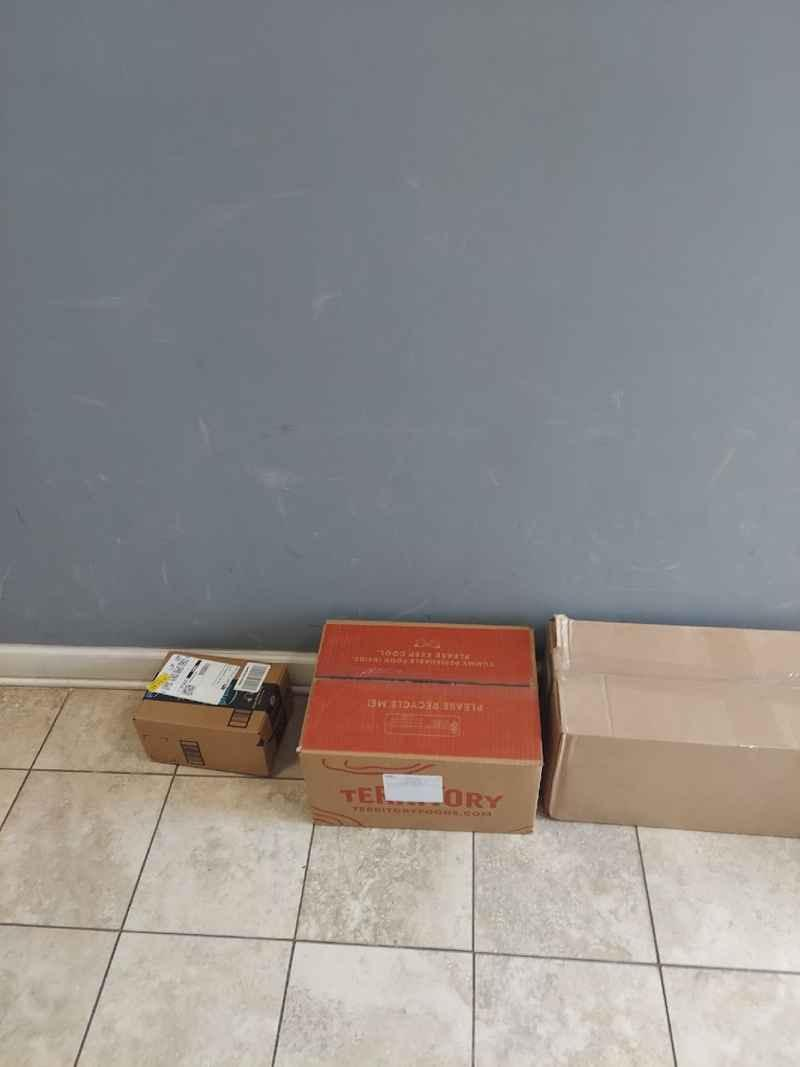package: (302, 618, 539, 839)
